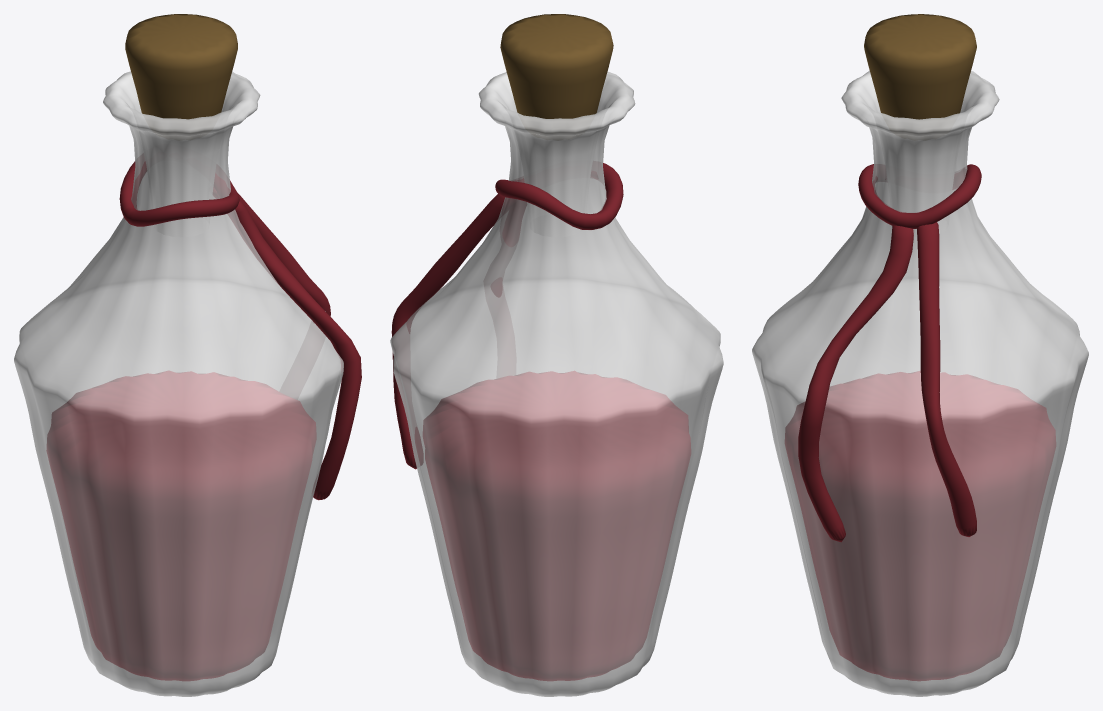
File: sise2-kirmizi.fbx
The picture shows the model from 3 angles, left to right: view 1: azimuth 30°, elevation 25°; view 2: azimuth 150°, elevation 25°; view 3: azimuth 270°, elevation 25°; orthographic projection.
Parts seen in each view (by area): view 1: Cylinder.061; view 2: Cylinder.061; view 3: Cylinder.061.
Boxes of the visible parts, bbox=[...] form: Cylinder.061: bbox=[14, 14, 361, 696]; Cylinder.061: bbox=[390, 14, 723, 696]; Cylinder.061: bbox=[752, 14, 1088, 696].
Bounding box in the file's own units: 14.73 × 29.76 × 14.23.
